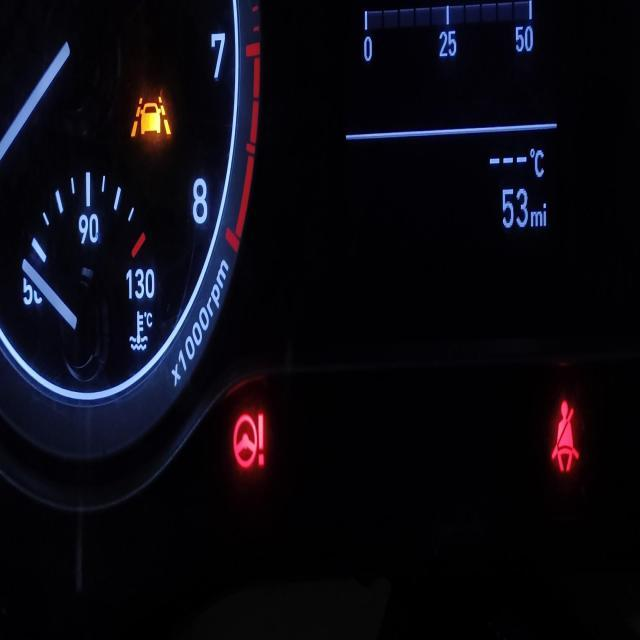PowerSteeringWarning: (227, 396, 266, 482)
SeatBeltWarning: (538, 378, 590, 498)
